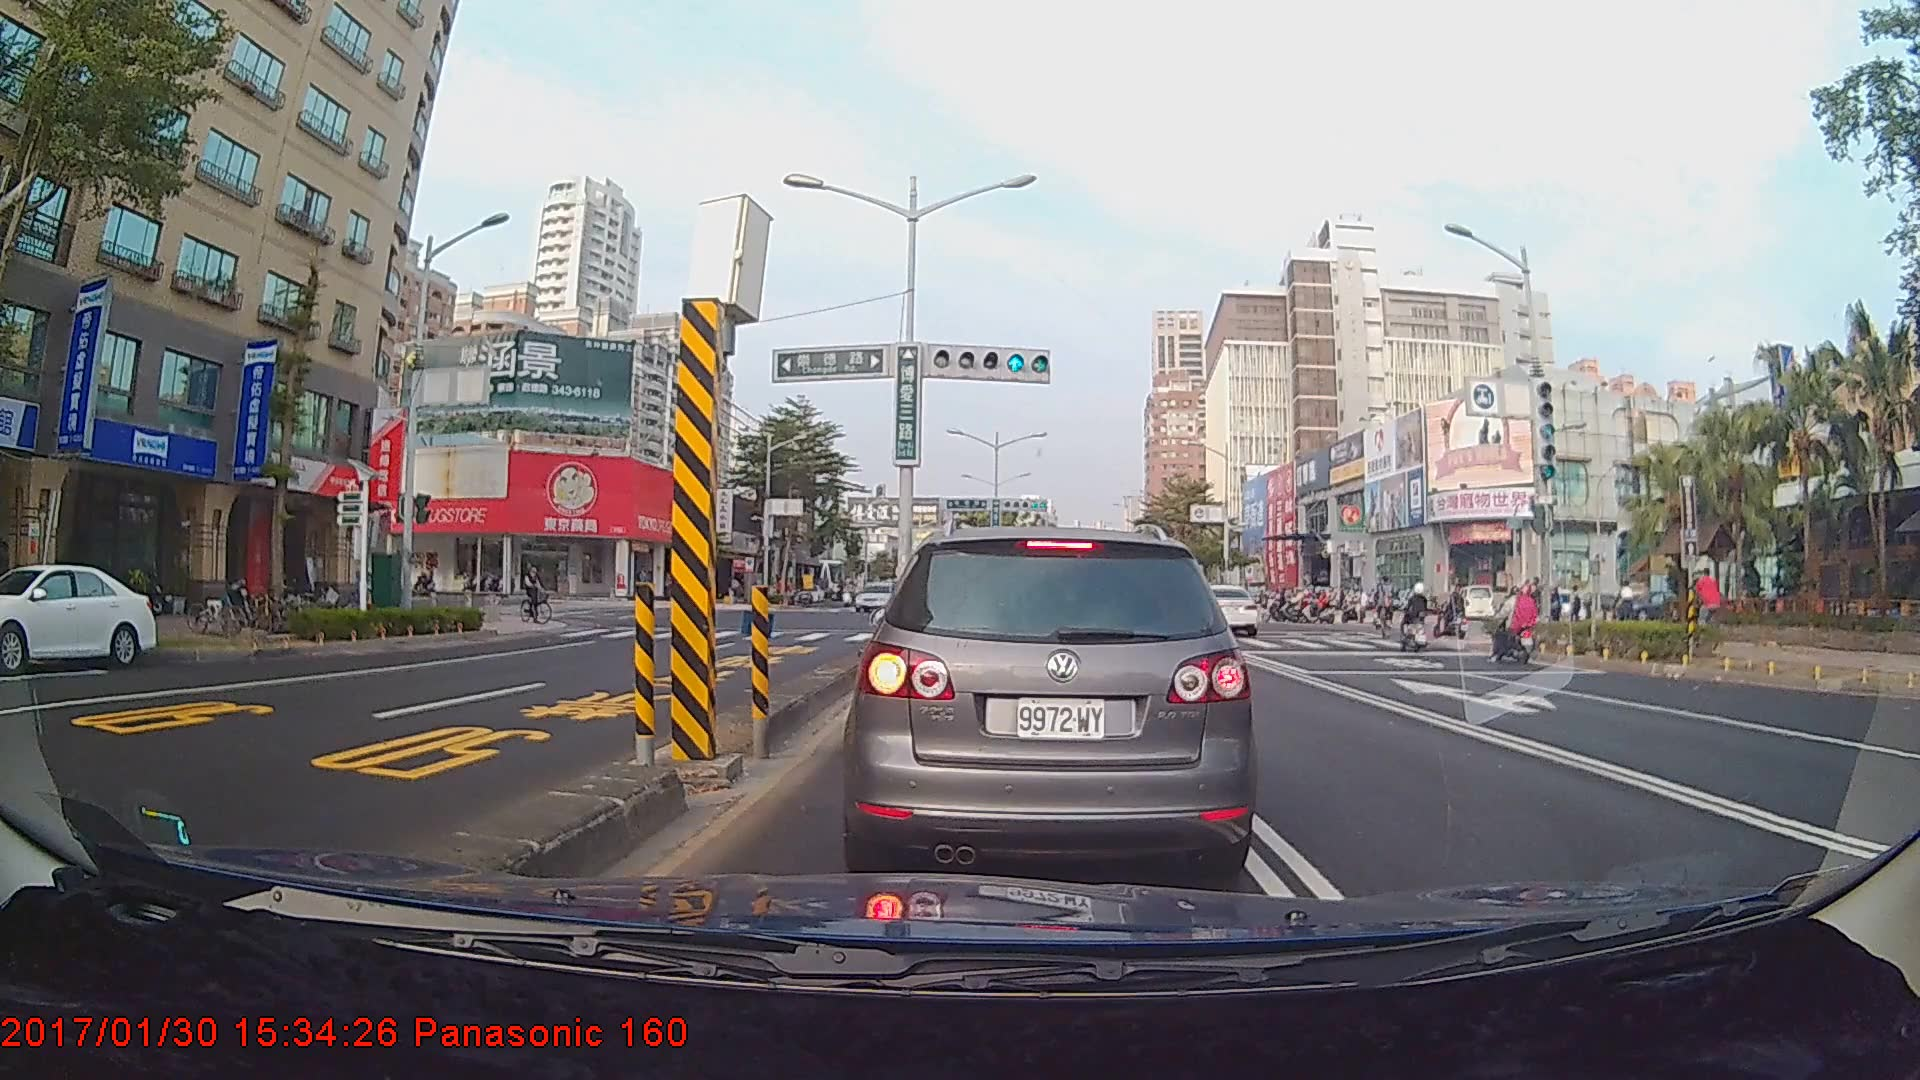pedestrian: (1567, 581, 1587, 640)
rider: (1485, 582, 1548, 668), (1685, 566, 1725, 649), (518, 559, 561, 629), (1399, 584, 1438, 654), (1359, 580, 1401, 642), (1436, 582, 1473, 646), (1368, 574, 1403, 638), (1610, 578, 1644, 634), (414, 565, 439, 603)
vehicle: (852, 520, 1253, 880), (0, 561, 157, 671), (1188, 582, 1260, 637), (852, 579, 901, 612)
